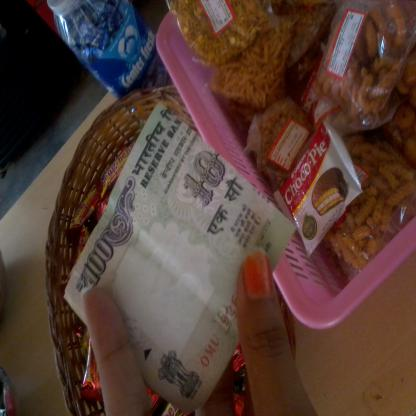Old100Front: (64, 100, 298, 414)
